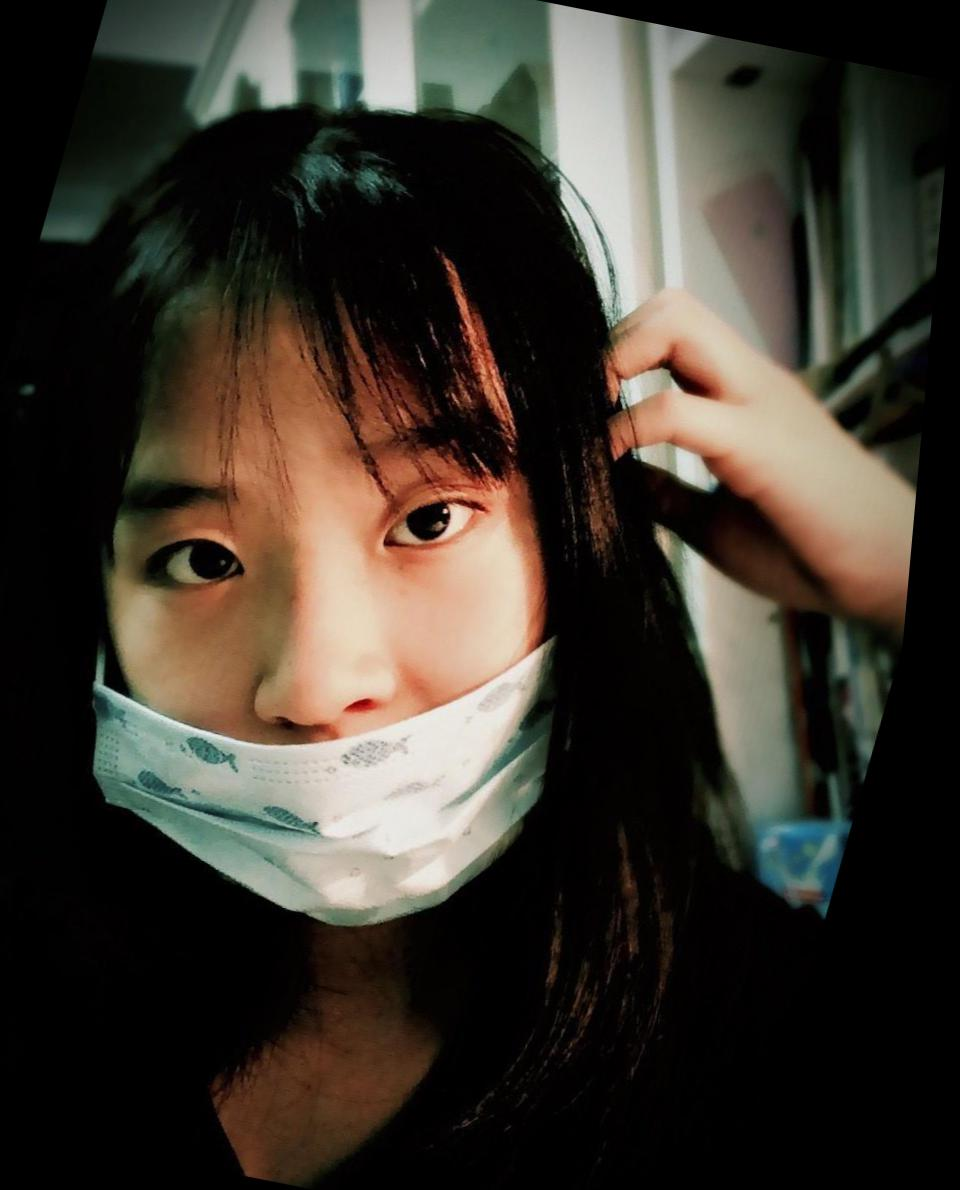WRONG: (1, 321, 675, 956)
